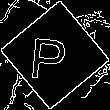P_N: (34, 28, 76, 82)
